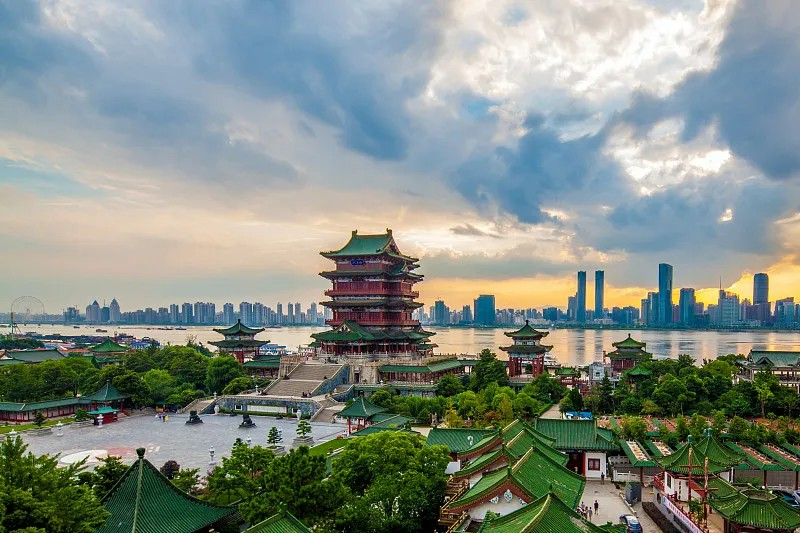Teng: (308, 229, 440, 359)
